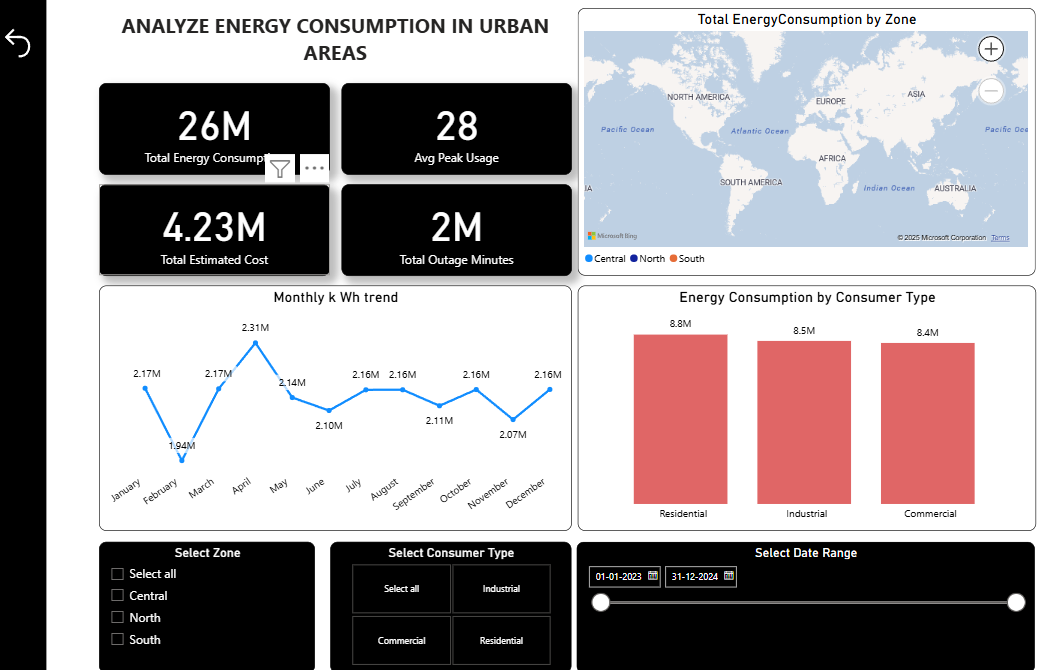

The page's visual inventory and layout, read from the dashboard file:
{"tool":"powerbi","page":{"name":"Executive","canvas":[1390,900],"ordinal":0},"visuals":[{"type":"textbox","box":[133.3,13.3,630,83.3],"z":0},{"type":"card","fields":{"Values":["Measure Table (2).Total Energy Consumption"]},"box":[134,112.5,308,122.5],"z":1000},{"type":"card","fields":{"Values":["Measure Table (2).Avg Peak Usage"]},"box":[456.5,112.5,307.5,122.5],"z":2000},{"type":"card","fields":{"Values":["Measure Table (2).Total Estimated Cost"]},"box":[134,247.5,308,122.5],"z":3000},{"type":"card","fields":{"Values":["Measure Table (2).Total Outage Minutes"]},"box":[456.5,247.5,307.5,122.5],"z":4000},{"type":"lineStackedColumnComboChart","title":"Monthly k Wh trend","fields":{"Category":["SmartCityEnergy.Date.Variation.Date Hierarchy.Month"],"Y2":["Sum(SmartCityEnergy.EnergyConsumed_kWh)"]},"box":[134,383.8,630,327.5],"z":5000},{"type":"columnChart","title":"Energy Consumption by Consumer Type","fields":{"Category":["SmartCityEnergy.ConsumerType"],"Y":["Sum(SmartCityEnergy.EnergyConsumed_kWh)"]},"box":[771,383.8,611.2,327.5],"z":6000},{"type":"filledMap","title":"Total EnergyConsumption by Zone","fields":{"Series":["SmartCityEnergy.Zone"]},"box":[771.7,13.3,610,356.7],"z":7000},{"type":"slicer","title":"Select Zone","fields":{"Values":["SmartCityEnergy.Zone"]},"box":[134,725,288.3,175],"z":8000},{"type":"slicer","title":"Select Consumer Type","fields":{"Values":["SmartCityEnergy.ConsumerType"]},"box":[442.3,725,321.7,175],"z":9000},{"type":"slicer","title":"Select Date Range","fields":{"Values":["SmartCityEnergy.Date"]},"box":[770.8,725,611,175],"z":10000},{"type":"textbox","box":[0,0,63.3,900],"z":10001},{"type":"actionButton","box":[0,35,63.3,50],"z":10002}]}

Visuals, with their boxes in screenshot pixels (x1, y1, x2, y2), scaled from the page's 1390x900 canvas onto the 1040x670 screenshot:
textbox: box=[100, 10, 571, 72]
card - Measure Table (2).Total Energy Consumption: box=[100, 84, 331, 175]
card - Measure Table (2).Avg Peak Usage: box=[342, 84, 572, 175]
card - Measure Table (2).Total Estimated Cost: box=[100, 184, 331, 275]
card - Measure Table (2).Total Outage Minutes: box=[342, 184, 572, 275]
"Monthly k Wh trend" lineStackedColumnComboChart: box=[100, 286, 572, 530]
"Energy Consumption by Consumer Type" columnChart: box=[577, 286, 1034, 530]
"Total EnergyConsumption by Zone" filledMap: box=[577, 10, 1034, 275]
"Select Zone" slicer: box=[100, 540, 316, 669]
"Select Consumer Type" slicer: box=[331, 540, 572, 669]
"Select Date Range" slicer: box=[577, 540, 1034, 669]
textbox: box=[0, 0, 47, 669]
actionButton: box=[0, 26, 47, 63]
